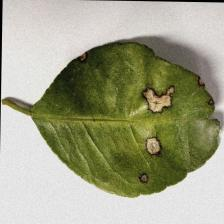canker: (73, 50, 220, 186)
